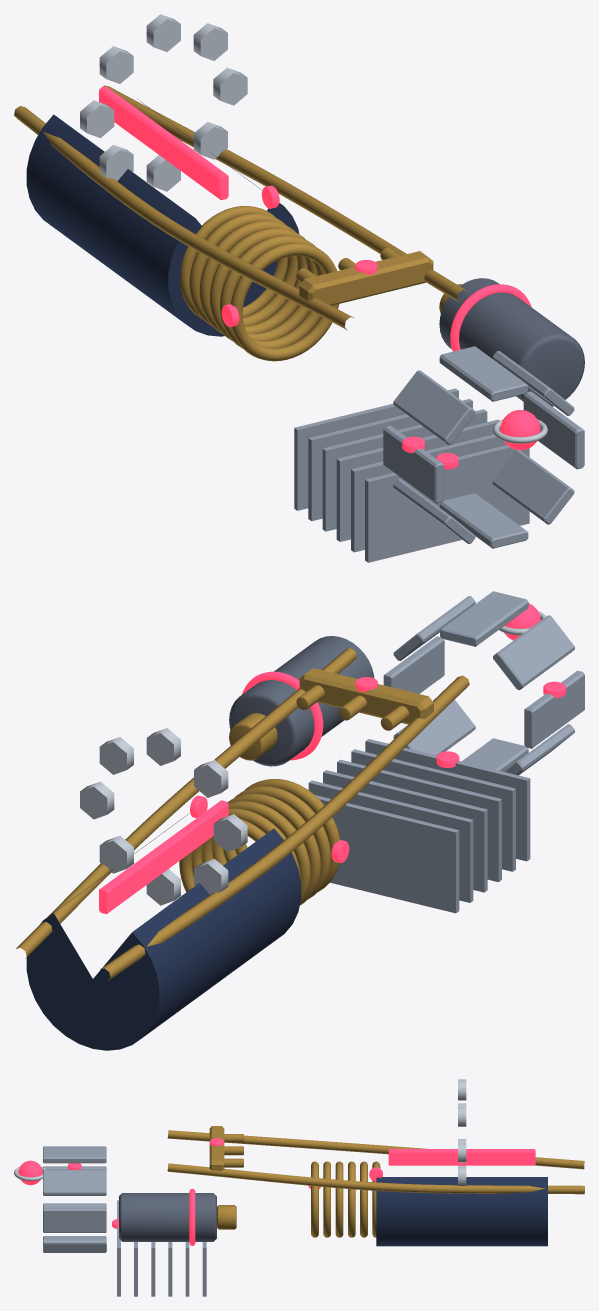
File: tower_filament_ramp_s9.glb
The picture shows the model from 3 angles, top to bottom: view 1: azimuth 30°, elevation 25°; view 2: azimuth 150°, elevation 25°; view 3: azimuth 270°, elevation 25°; orthographic projection. The views are drawn at different scales.
Parts seen in each view (by area): view 1: filament_radiator_b, filament_heat_shroud, filament_accumulator, filament_shroud_bolts, filament_heat_pipe_r, filament_heat_pipe_l, filament_manifold, filament_shroud_glow, filament_coil_sleeve0, filament_breech_fin1, filament_breech_fin5, filament_breech_fin2 (+12 smaller); view 2: filament_radiator_b, filament_heat_shroud, filament_shroud_bolts, filament_heat_pipe_r, filament_accumulator, filament_heat_pipe_l, filament_shroud_glow, filament_manifold, filament_breech_fin1, filament_breech_fin2, filament_breech_fin0, filament_breech_fin4 (+12 smaller); view 3: filament_heat_shroud, filament_accumulator, filament_heat_pipe_l, filament_shroud_glow, filament_heat_pipe_r, filament_breech_fin3, filament_breech_fin4, filament_radiator_b, filament_breech_fin2, filament_breech_fin5, filament_shroud_bolts, filament_manifold (+10 smaller).
Boxes of the visible parts, x1,y1,x2,y2 form: filament_radiator_b: [294, 388, 529, 562]; filament_heat_shroud: [26, 99, 299, 336]; filament_accumulator: [439, 278, 584, 406]; filament_shroud_bolts: [80, 14, 247, 191]; filament_heat_pipe_r: [14, 106, 354, 330]; filament_heat_pipe_l: [102, 85, 466, 302]; filament_manifold: [299, 251, 433, 305]; filament_shroud_glow: [99, 86, 228, 200]; filament_coil_sleeve0: [230, 243, 339, 361]; filament_breech_fin1: [393, 370, 475, 444]; filament_breech_fin5: [492, 450, 574, 524]; filament_breech_fin2: [439, 346, 528, 401]; filament_radiator_b: [308, 739, 530, 913]; filament_heat_shroud: [26, 813, 301, 1050]; filament_shroud_bolts: [80, 728, 247, 905]; filament_heat_pipe_r: [100, 675, 469, 980]; filament_accumulator: [229, 636, 374, 766]; filament_heat_pipe_l: [16, 648, 356, 958]; filament_shroud_glow: [99, 800, 228, 914]; filament_manifold: [299, 668, 433, 724]; filament_breech_fin1: [493, 615, 574, 690]; filament_breech_fin2: [440, 591, 528, 646]; filament_breech_fin0: [524, 670, 584, 748]; filament_breech_fin4: [383, 636, 444, 693]; filament_heat_shroud: [376, 1177, 547, 1246]; filament_accumulator: [119, 1193, 216, 1241]; filament_heat_pipe_l: [167, 1163, 584, 1194]; filament_shroud_glow: [388, 1149, 535, 1165]; filament_heat_pipe_r: [167, 1130, 584, 1169]; filament_breech_fin3: [43, 1170, 106, 1195]; filament_breech_fin4: [43, 1207, 106, 1232]; filament_radiator_b: [117, 1200, 206, 1296]; filament_breech_fin2: [43, 1147, 106, 1163]; filament_breech_fin5: [43, 1238, 106, 1252]; filament_shroud_bolts: [458, 1079, 466, 1185]; filament_manifold: [209, 1126, 224, 1170].
Bounding box in the file's own units: 0.647 × 0.865 × 2.33.
